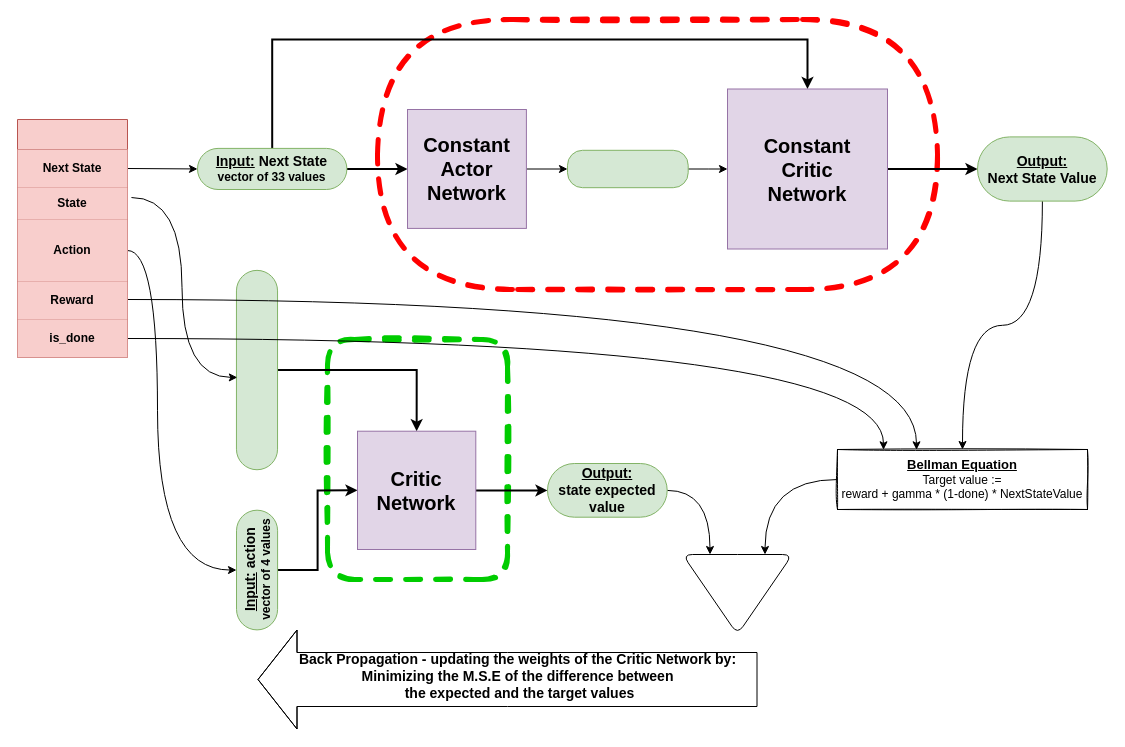
Some shapes in this 1125 by 747 pixel diagram are drawn without their labels. Here are the shapes that lost their labels. From the top down, the box of each, then its label:
(566, 149, 688, 188): Next Action vector of 4 values
(16, 118, 128, 358): Replay Tuple
(236, 269, 278, 470): Input: state vector of 33 values
(682, 554, 792, 634): M.S.E. Loss
